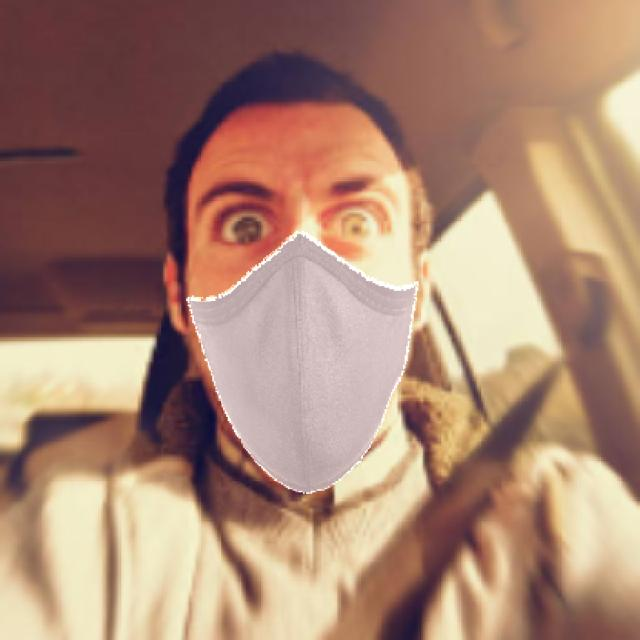mask: (168, 194, 467, 518)
